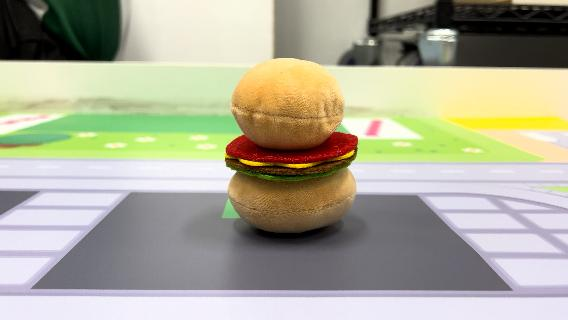burger: (221, 54, 363, 236)
